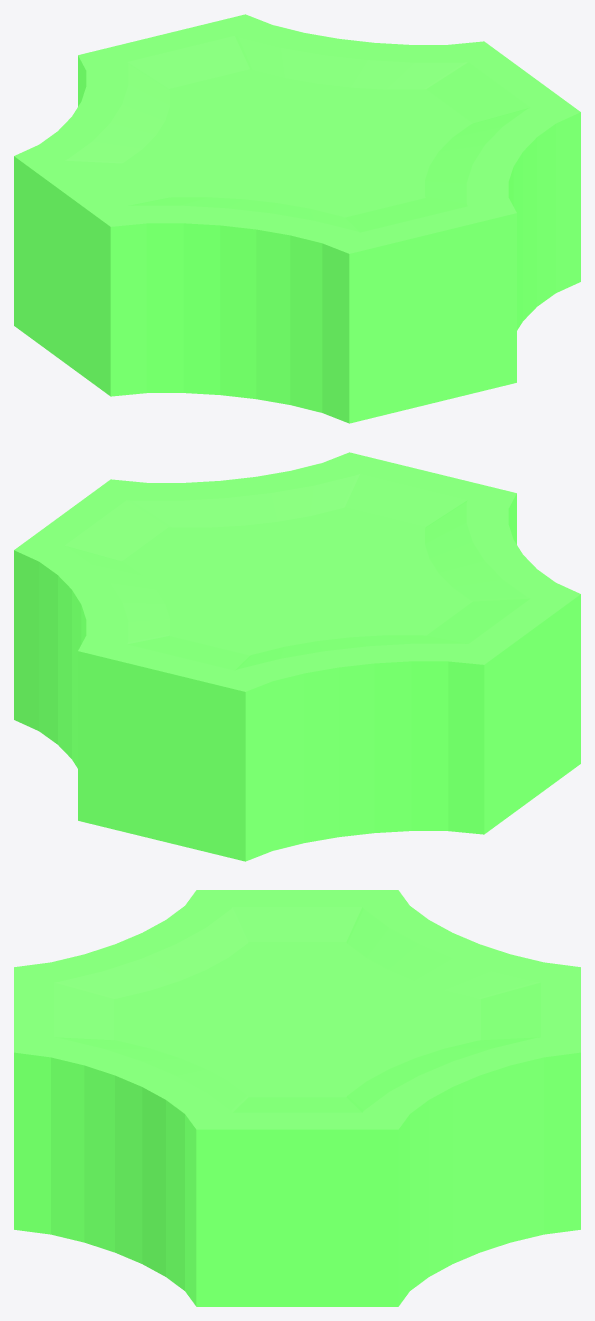
File: seleccion.glb
3 renders of one model, top to bottom at view 1: azimuth 30°, elevation 25°; view 2: azimuth 150°, elevation 25°; view 3: azimuth 270°, elevation 25°, orthographic. The views are drawn at different scales.
Parts seen in each view (by area): view 1: Cubo.001; view 2: Cubo.001; view 3: Cubo.001.
Boxes of the visible parts, x1,y1,x2,y2 form: Cubo.001: (14,14,580,423); Cubo.001: (14,452,580,861); Cubo.001: (14,890,580,1306).
Size of the model in its own units: 2.05 by 0.7449 by 2.05.
